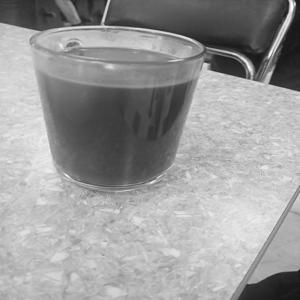coffee: (22, 8, 215, 212)
